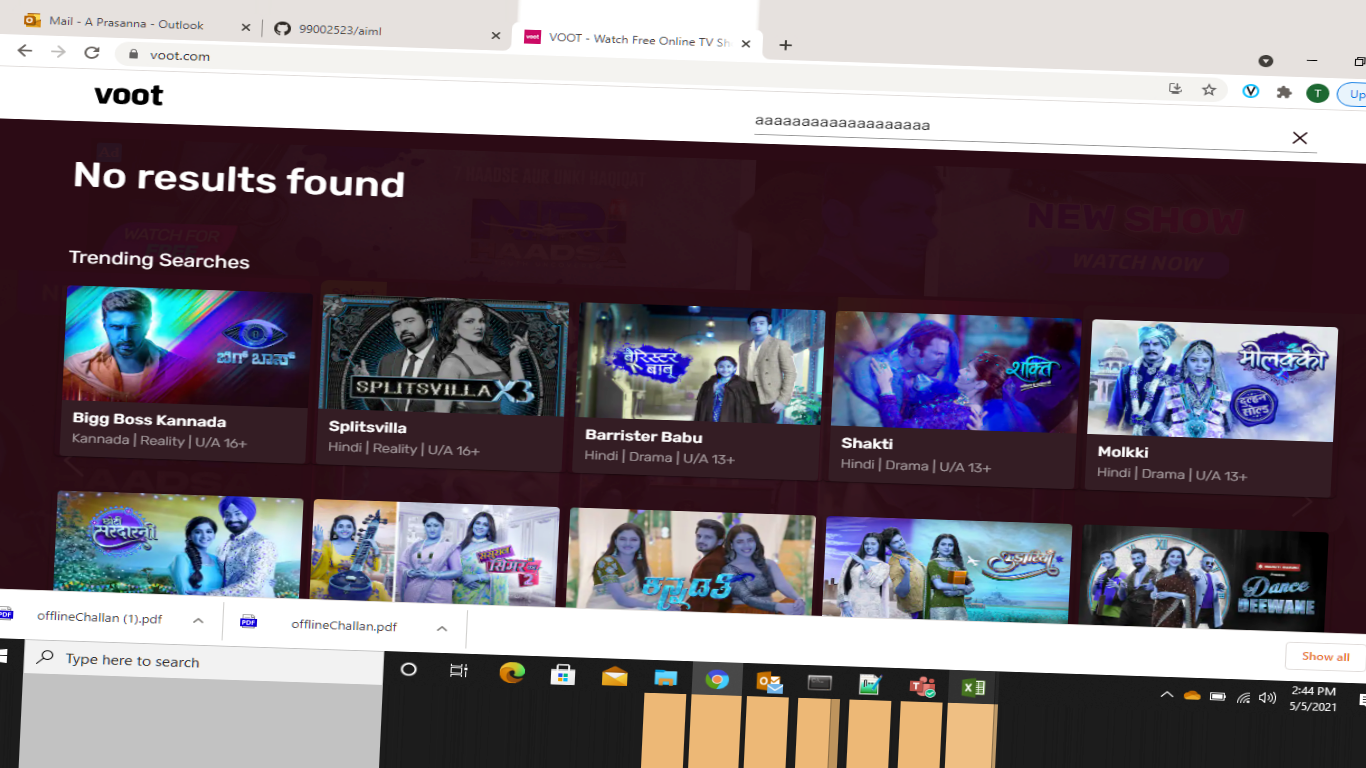noresultsfound: (72, 144, 1270, 233)
searchtextbox: (735, 93, 1316, 153)
